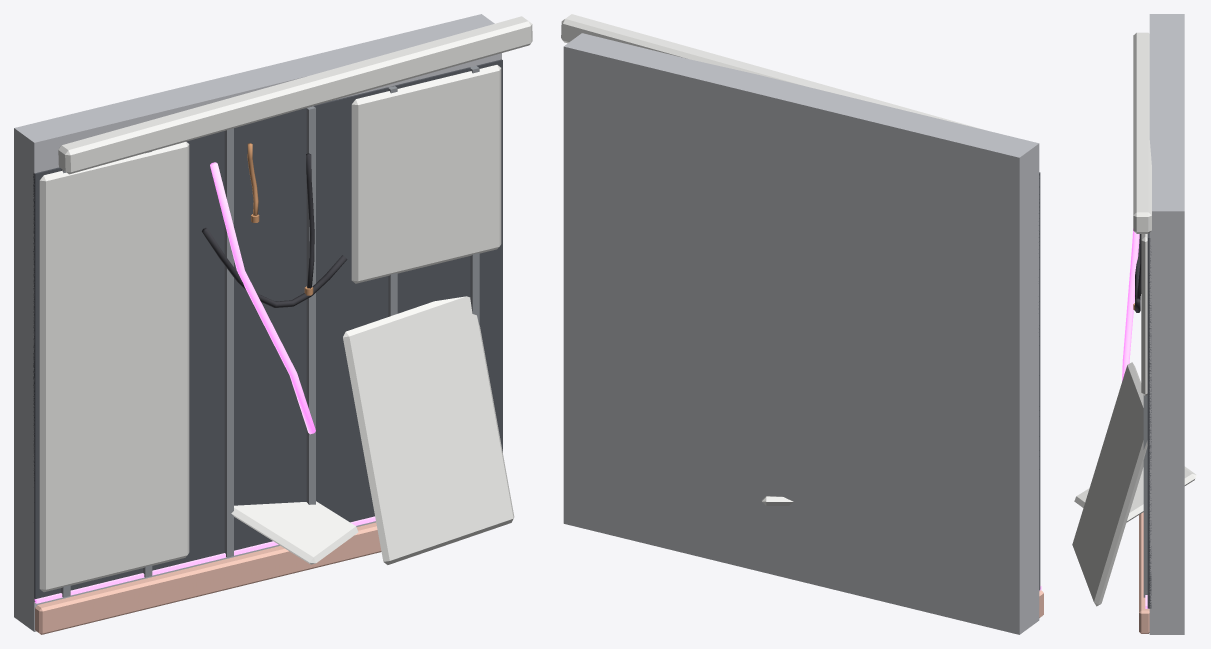
Rendered from wall_crack.glb.
The picture shows the model from 3 angles, left to right: view 1: azimuth 30°, elevation 25°; view 2: azimuth 150°, elevation 25°; view 3: azimuth 270°, elevation 25°; orthographic projection. The views are drawn at different scales.
Visible parts, largest first — view 1: wall_crack; view 2: wall_crack; view 3: wall_crack.
Part boxes in pixels (bbox=[...]): wall_crack: bbox=[14, 14, 532, 634]; wall_crack: bbox=[561, 14, 1043, 634]; wall_crack: bbox=[1072, 14, 1196, 634].
Size of the model in its own units: 4.2 by 4.07 by 1.06.
